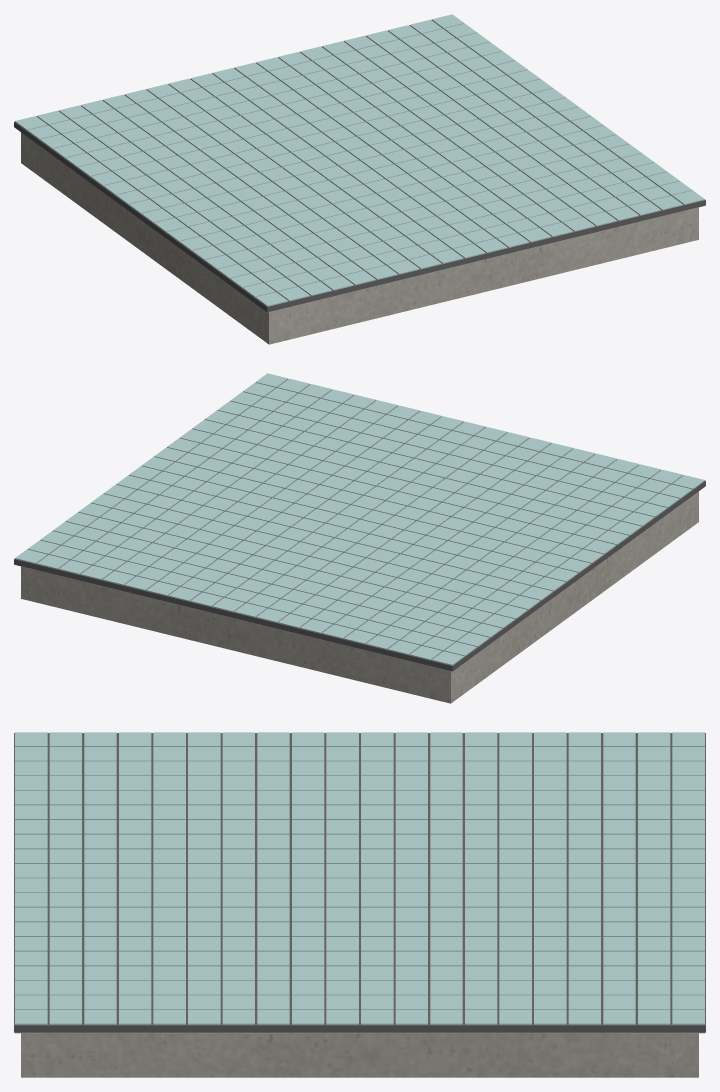
The model's file is floor_tile_bath.glb.
3 renders of one model, top to bottom at view 1: azimuth 30°, elevation 25°; view 2: azimuth 150°, elevation 25°; view 3: azimuth 270°, elevation 25°, orthographic. The views are drawn at different scales.
Parts seen in each view (by area): view 1: floor_tile_bath_tile, floor_tile_bath_concrete, floor_tile_bath_dark; view 2: floor_tile_bath_tile, floor_tile_bath_concrete, floor_tile_bath_dark; view 3: floor_tile_bath_tile, floor_tile_bath_concrete, floor_tile_bath_dark.
Part boxes in pixels (x1=…): floor_tile_bath_tile: x1=15, y1=14, x2=704, y2=312; floor_tile_bath_concrete: x1=21, y1=132, x2=698, y2=344; floor_tile_bath_dark: x1=14, y1=20, x2=705, y2=312; floor_tile_bath_tile: x1=15, y1=373, x2=704, y2=671; floor_tile_bath_concrete: x1=21, y1=491, x2=698, y2=703; floor_tile_bath_dark: x1=14, y1=379, x2=705, y2=671; floor_tile_bath_tile: x1=15, y1=732, x2=704, y2=1033; floor_tile_bath_concrete: x1=21, y1=1032, x2=698, y2=1077; floor_tile_bath_dark: x1=14, y1=733, x2=705, y2=1032.
Size of the model in its own units: 2 by 0.18 by 2.
Materials: 3 (1 with a texture image).
